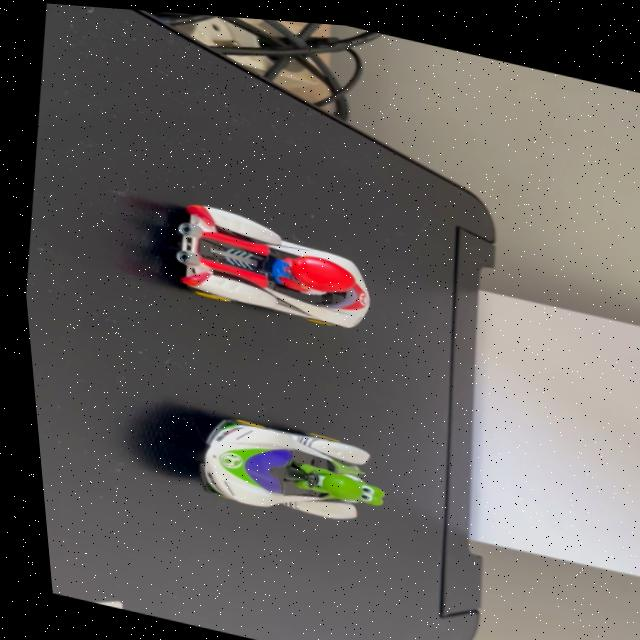mario: (147, 192, 397, 345)
yoshi: (163, 390, 402, 543)
